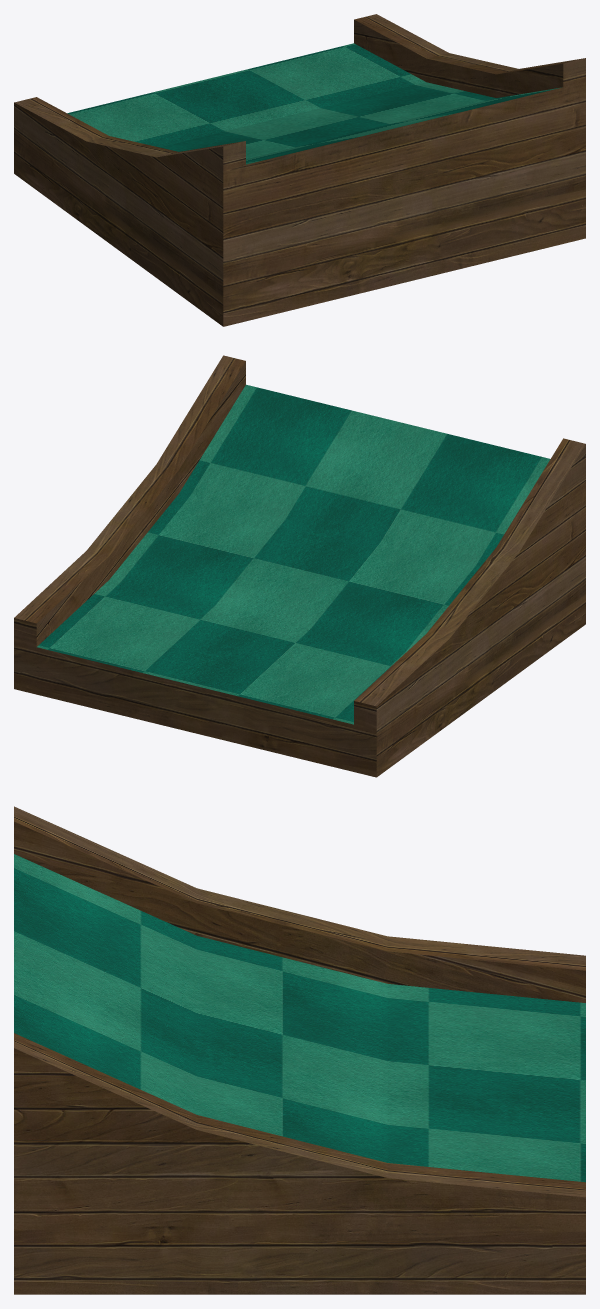
The model's file is Ramp1.gltf.
3 views of the same model, one above another, from view 1: azimuth 30°, elevation 25°; view 2: azimuth 150°, elevation 25°; view 3: azimuth 270°, elevation 25° (orthographic). The views are drawn at different scales.
Parts seen in each view (by area): view 1: Ramp1_glb; view 2: Ramp1_glb; view 3: Ramp1_glb.
Part boxes in pixels (<box>): Ramp1_glb: <box>14,14,585,326</box>; Ramp1_glb: <box>14,355,585,777</box>; Ramp1_glb: <box>14,806,585,1294</box>.
Size of what is drawn, in the model's own units: 4 by 1.9 by 4.
2 materials, 2 textured.
